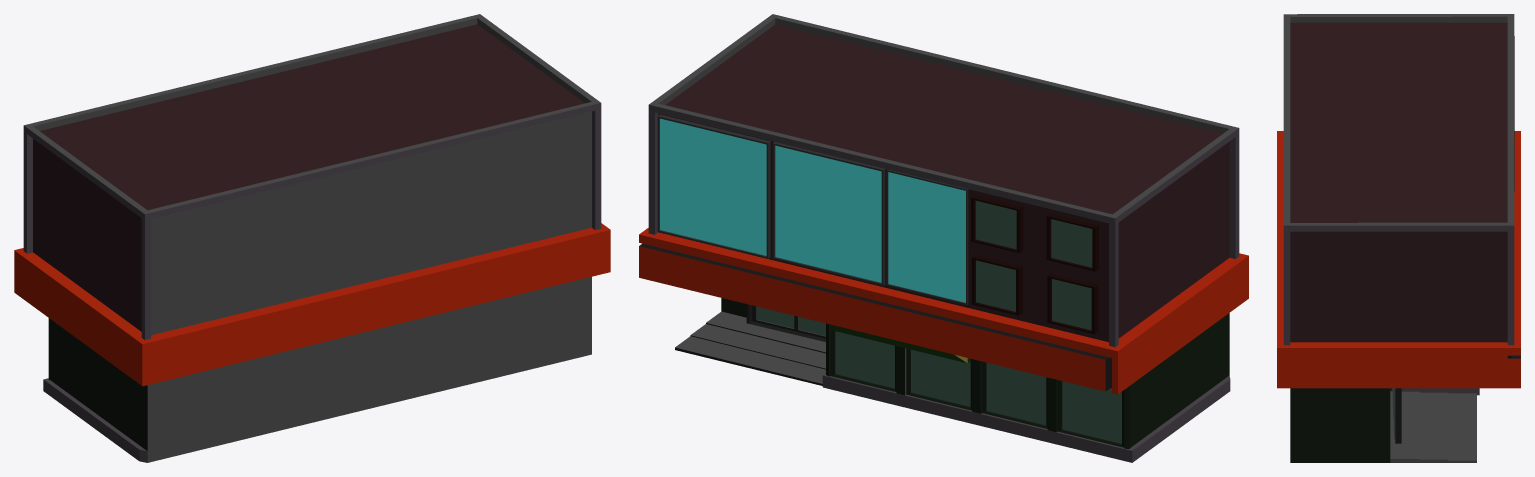
The model's file is Himik_Street_Prop_Building_3.fbx.
3 views of the same model, side by side, from view 1: azimuth 30°, elevation 25°; view 2: azimuth 150°, elevation 25°; view 3: azimuth 270°, elevation 25° (orthographic). The views are drawn at different scales.
Visible parts, largest first — view 1: CorpBuilding_Body; view 2: CorpBuilding_Body, Billboard1, Billboard2, Billboard3, CorpBuilding_Door, Cube.012; view 3: CorpBuilding_Body, CorpBuilding_Door.
Boxes of the visible parts, left/top/right/bottom form: CorpBuilding_Body: left=14, top=14, right=610, bottom=462; CorpBuilding_Body: left=639, top=14, right=1248, bottom=462; Billboard1: left=657, top=114, right=770, bottom=258; Billboard2: left=772, top=142, right=885, bottom=285; Billboard3: left=886, top=169, right=968, bottom=305; CorpBuilding_Door: left=746, top=304, right=825, bottom=341; Cube.012: left=829, top=324, right=970, bottom=363; CorpBuilding_Body: left=1277, top=14, right=1520, bottom=462; CorpBuilding_Door: left=1392, top=388, right=1401, bottom=443.
Bounding box in the file's own units: 3892 × 1846 × 2008.
6 materials, 6 textured.
